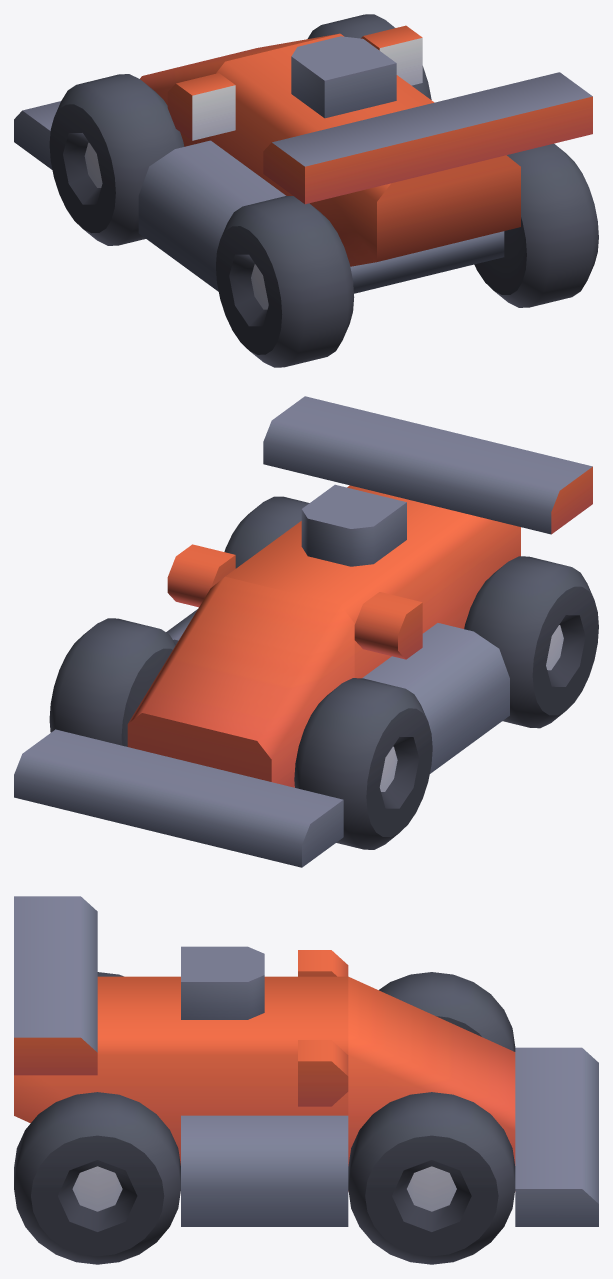
The model's file is kenney-toy-car-vehicle-speedster.glb.
The picture shows the model from 3 angles, top to bottom: view 1: azimuth 30°, elevation 25°; view 2: azimuth 150°, elevation 25°; view 3: azimuth 270°, elevation 25°; orthographic projection.
Visible parts, largest first — view 1: vehicle-speedster; view 2: vehicle-speedster; view 3: vehicle-speedster.
Part boxes in pixels (bbox=[...]): vehicle-speedster: bbox=[14, 14, 598, 367]; vehicle-speedster: bbox=[14, 396, 598, 867]; vehicle-speedster: bbox=[14, 896, 598, 1264].
Size of the model in its own units: 0.55 by 0.3749 by 0.875.
Materials: 1 (1 with a texture image).
